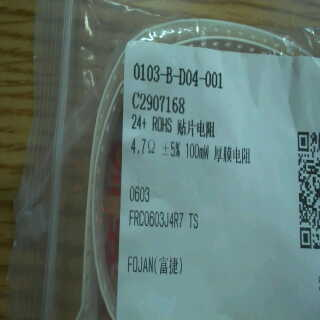4.7R: (130, 134, 160, 157)
